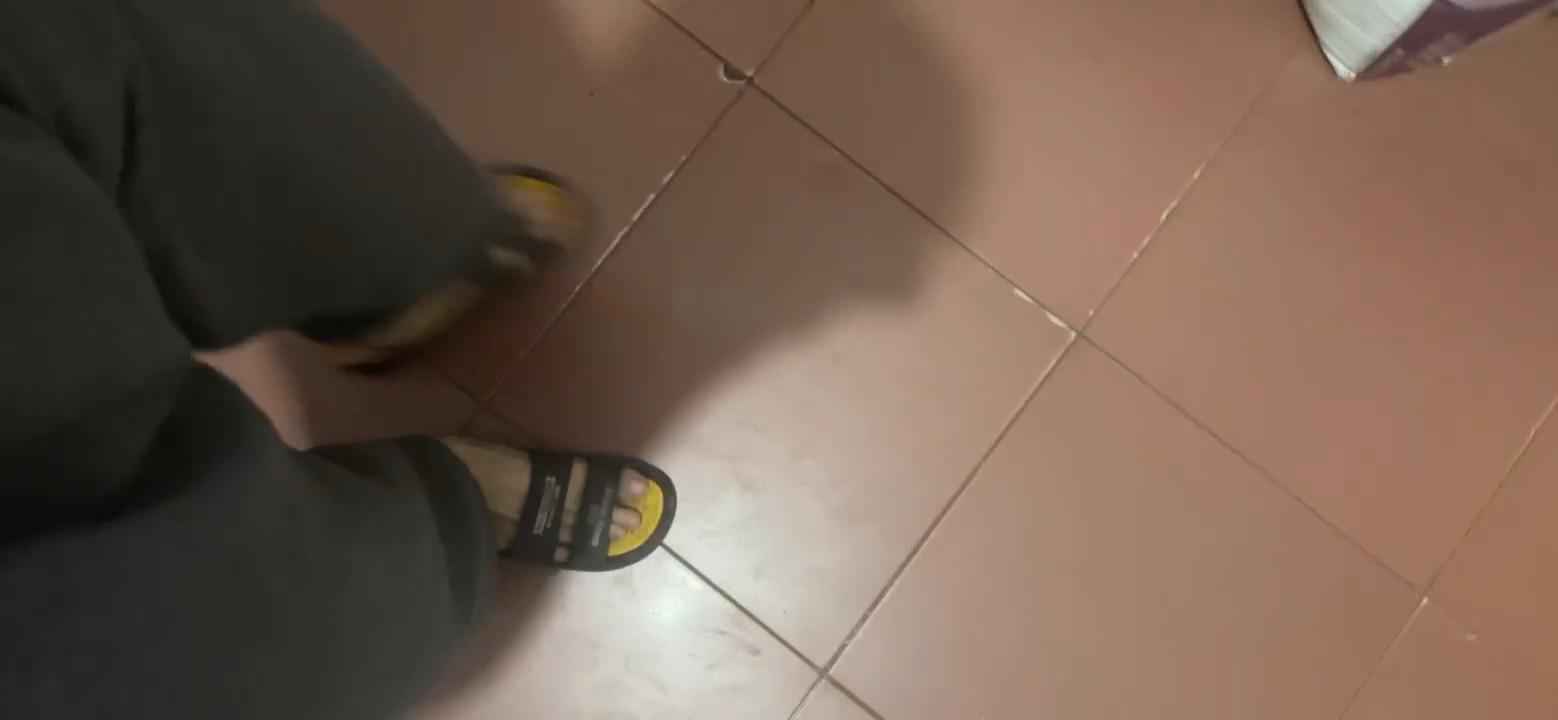no-boot: (395, 421, 688, 602)
